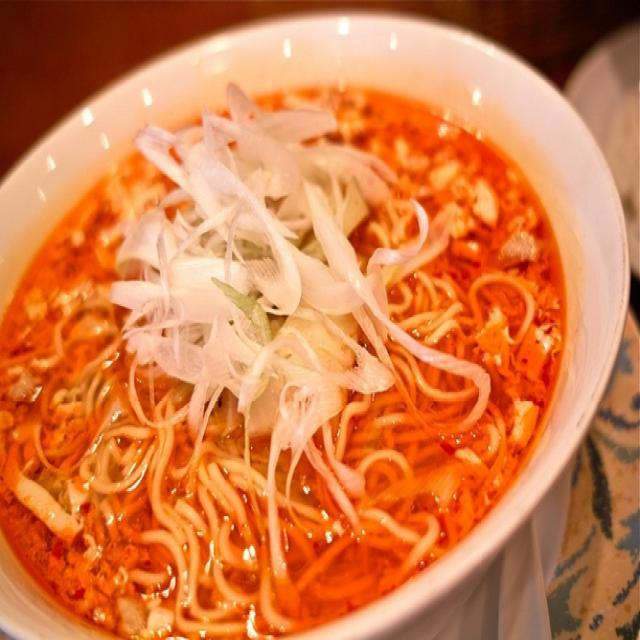面条主食: (18, 12, 605, 622)
